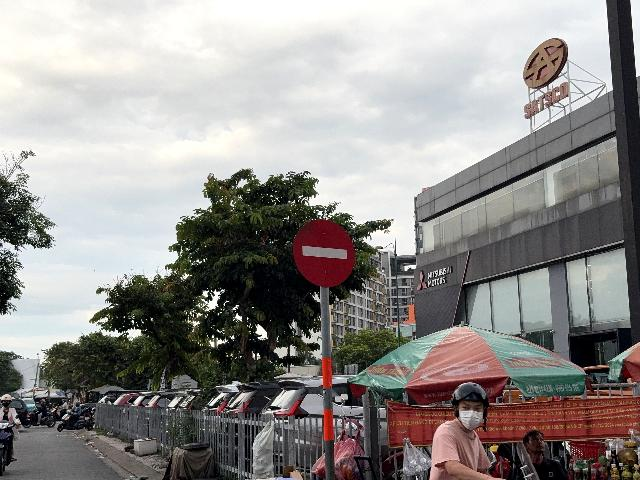cam-di-nguoc-chieu: (293, 220, 354, 287)
